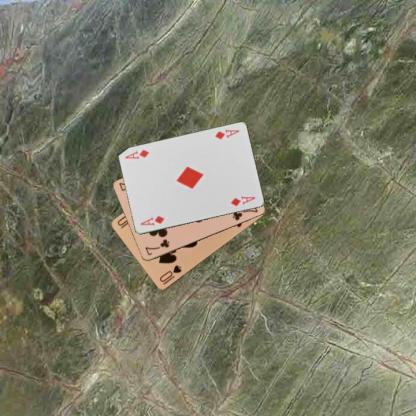10s: (156, 262, 182, 287)
7c: (143, 237, 170, 257)
Ad: (137, 213, 166, 227), (212, 127, 240, 140)
